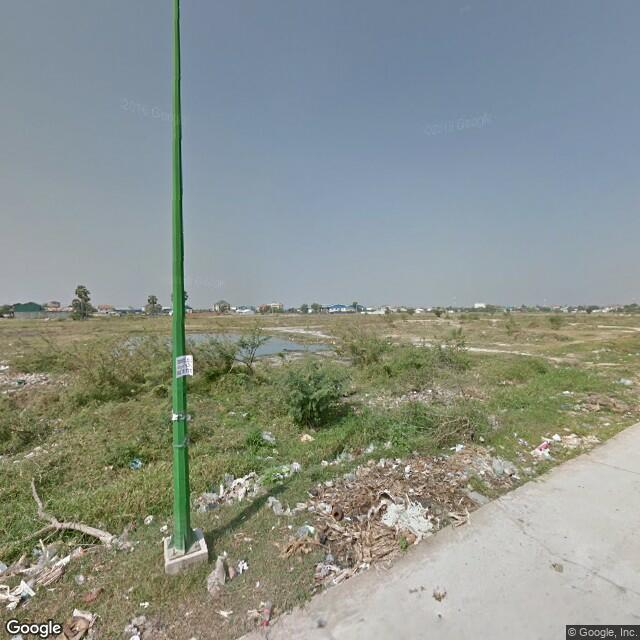litter: (370, 495, 439, 542), (449, 446, 524, 481), (51, 602, 117, 640), (205, 550, 250, 598), (280, 524, 333, 554), (1, 561, 36, 601), (524, 433, 597, 452), (272, 500, 342, 518), (309, 554, 359, 579), (199, 488, 261, 502)
